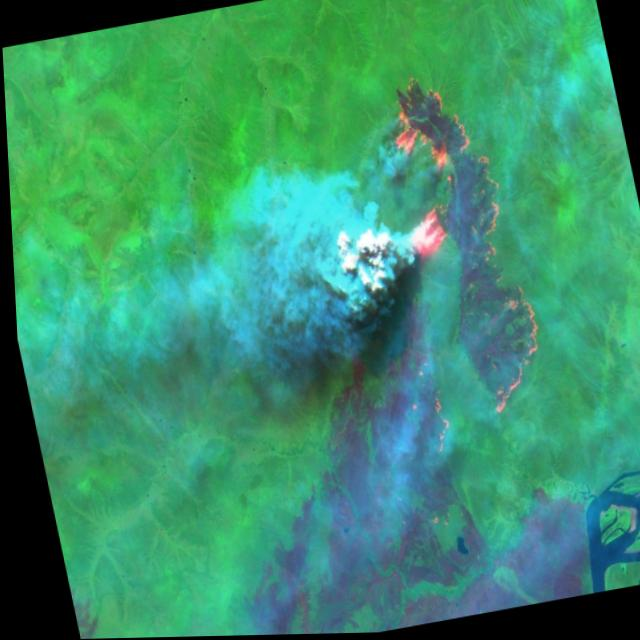fire: (347, 55, 562, 464)
